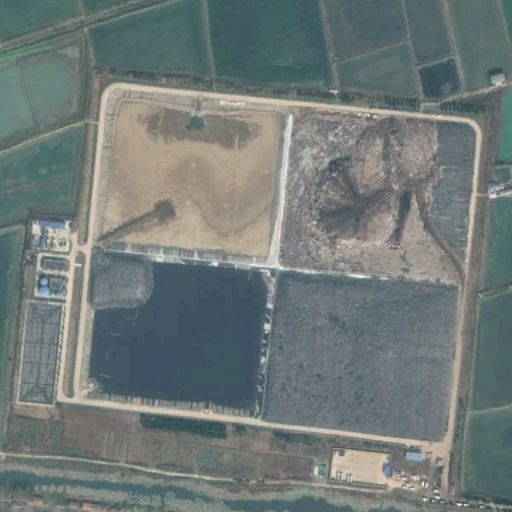lf: (57, 64, 488, 457)
